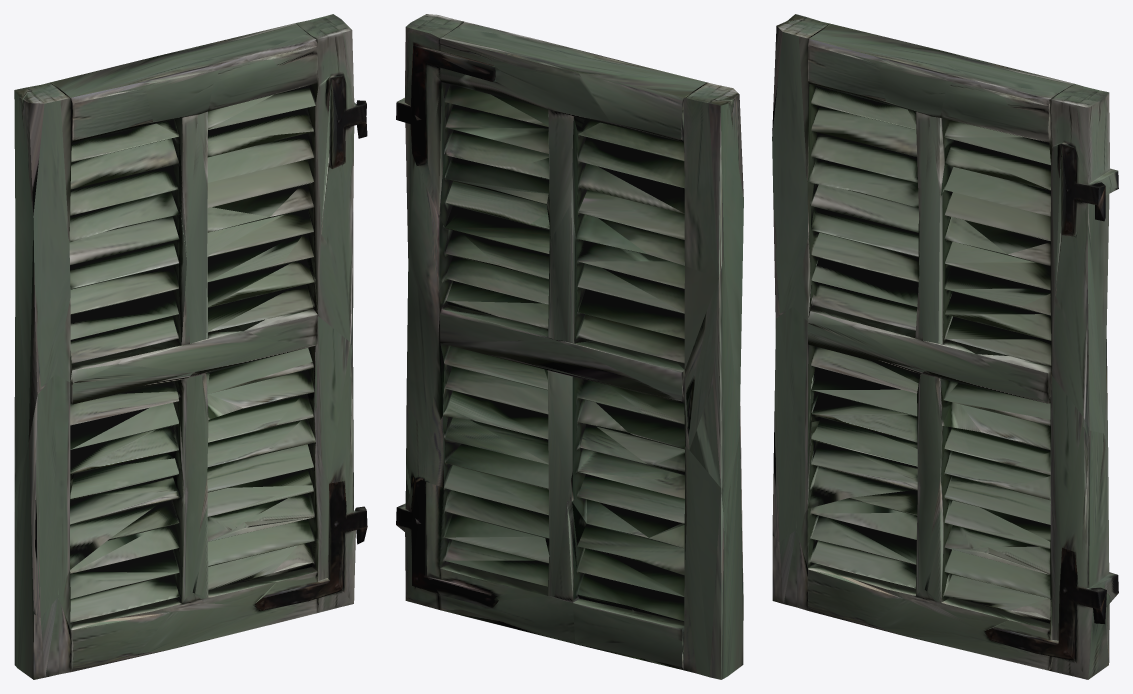
Rendered from LouvredShutter.glb.
3 renders of one model, left to right at view 1: azimuth 30°, elevation 25°; view 2: azimuth 150°, elevation 25°; view 3: azimuth 330°, elevation 25°, orthographic.
Visible parts, largest first — view 1: LouvredShutter; view 2: LouvredShutter; view 3: LouvredShutter.
Part boxes in pixels (left/top/right/bottom): LouvredShutter: left=14, top=14, right=367, bottom=679; LouvredShutter: left=396, top=14, right=743, bottom=679; LouvredShutter: left=772, top=14, right=1118, bottom=679.
Size of the model in its own units: 0.6082 by 1 by 0.0932.
1 material, 1 textured.
